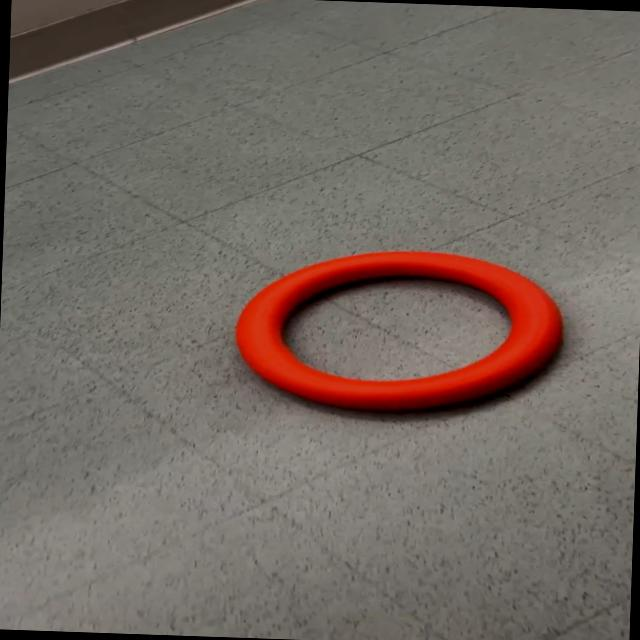note: (230, 243, 566, 418)
